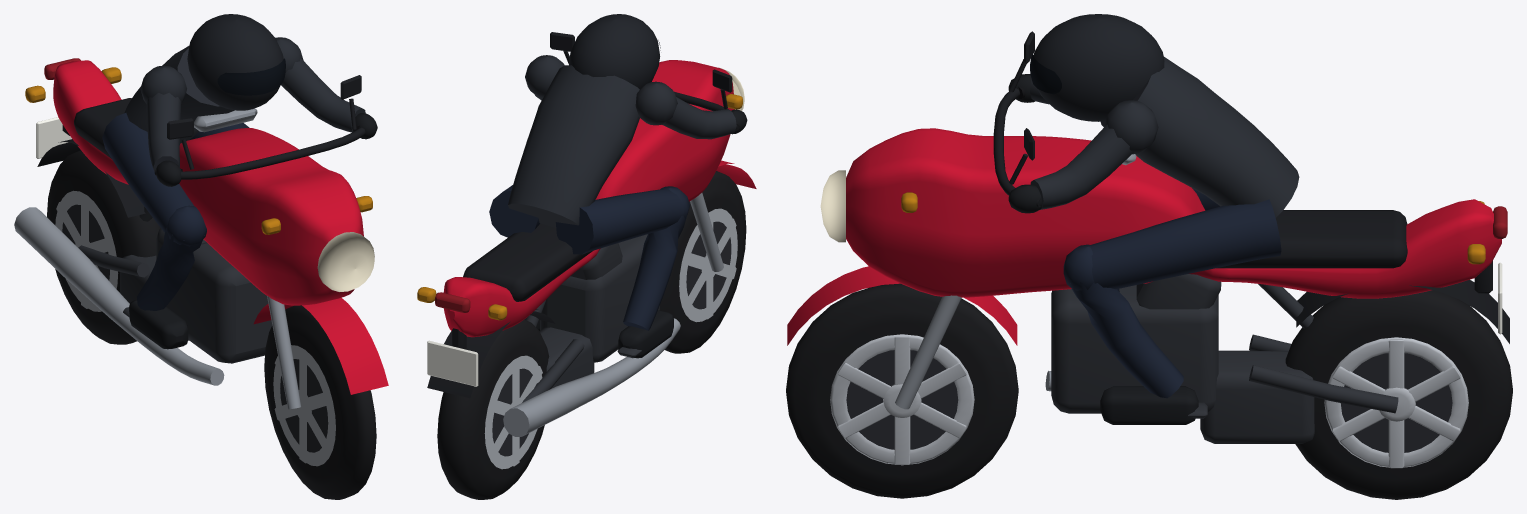
File: moto.glb
The picture shows the model from 3 angles, left to right: view 1: azimuth 30°, elevation 25°; view 2: azimuth 150°, elevation 25°; view 3: azimuth 270°, elevation 25°; orthographic projection. The views are drawn at different scales.
Parts seen in each view (by area): view 1: bike_body, wheel_f_tyre, engine, rider_legs, rider_arms, wheel_r_tyre, exhaust, rider_helmet, fender_f, wheel_f_rim, light_head, fork (+14 smaller); view 2: rider_torso, bike_body, rider_legs, engine, wheel_r_tyre, seat, rider_helmet, wheel_f_tyre, rider_arms, exhaust, wheel_f_rim, wheel_r_rim (+12 smaller); view 3: bike_body, wheel_f_tyre, engine, wheel_r_tyre, rider_legs, rider_torso, wheel_r_rim, wheel_f_rim, rider_helmet, seat, rider_arms, wheel_r_disc (+9 smaller).
Boxes of the visible parts, x1,y1,x2,y2 form: bike_body: (53, 60, 363, 305); wheel_f_tyre: (264, 305, 376, 499); engine: (120, 228, 272, 363); rider_legs: (102, 113, 249, 310); rider_arms: (140, 37, 365, 171); wheel_r_tyre: (47, 150, 160, 344); exhaust: (14, 207, 224, 385); rider_helmet: (187, 14, 283, 110); fender_f: (253, 297, 388, 394); wheel_f_rim: (273, 345, 335, 466); light_head: (317, 232, 374, 291); fork: (194, 108, 301, 409); rider_torso: (508, 65, 639, 227); bike_body: (443, 60, 734, 337); rider_legs: (489, 185, 689, 330); engine: (539, 234, 659, 388); wheel_r_tyre: (437, 319, 549, 499); seat: (463, 223, 592, 301); rider_helmet: (569, 14, 660, 89); wheel_f_tyre: (660, 171, 746, 353); rider_arms: (525, 55, 736, 139); exhaust: (503, 318, 680, 436); wheel_f_rim: (679, 208, 737, 322); wheel_r_rim: (484, 355, 542, 469); bike_body: (846, 128, 1501, 298); wheel_f_tyre: (786, 283, 1018, 498); engine: (1051, 274, 1314, 443); wheel_r_tyre: (1285, 290, 1512, 499); rider_legs: (1063, 188, 1281, 398); rider_torso: (1100, 56, 1299, 217); wheel_r_rim: (1324, 337, 1468, 468); wheel_f_rim: (830, 334, 974, 465); rider_helmet: (1033, 14, 1164, 121); seat: (1216, 210, 1407, 268); rider_arms: (1030, 80, 1158, 209); wheel_r_disc: (1340, 353, 1452, 452).
Size of the model in its own units: 0.8 by 1.45 by 2.
